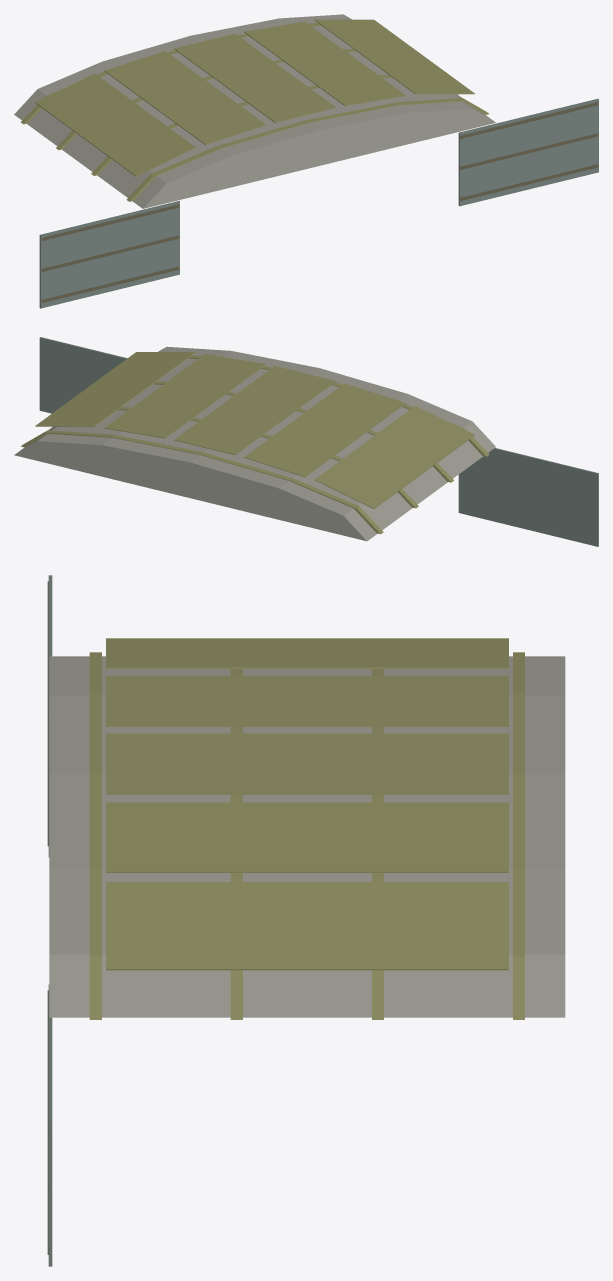
The model's file is SM_HangarAbierto_v4_Fortificado_LOD1.fbx.
3 views of the same model, one above another, from view 1: azimuth 30°, elevation 25°; view 2: azimuth 150°, elevation 25°; view 3: azimuth 270°, elevation 25° (orthographic). The views are drawn at different scales.
Parts seen in each view (by area): view 1: Cubierta, Porton_O, Porton_E; view 2: Cubierta, Porton_O, Porton_E; view 3: Cubierta, Porton_E, Porton_O.
Part boxes in pixels (bbox=[...]): Cubierta: bbox=[14, 14, 495, 208]; Porton_O: bbox=[39, 201, 179, 308]; Porton_E: bbox=[458, 98, 598, 206]; Cubierta: bbox=[14, 346, 495, 541]; Porton_O: bbox=[458, 448, 598, 546]; Porton_E: bbox=[39, 337, 127, 413]; Cubierta: bbox=[49, 638, 565, 1019]; Porton_E: bbox=[47, 984, 52, 1266]; Porton_O: bbox=[47, 575, 52, 857].
Size of what is drawn, in the model's own units: 63.98 by 12.62 by 25.69.
